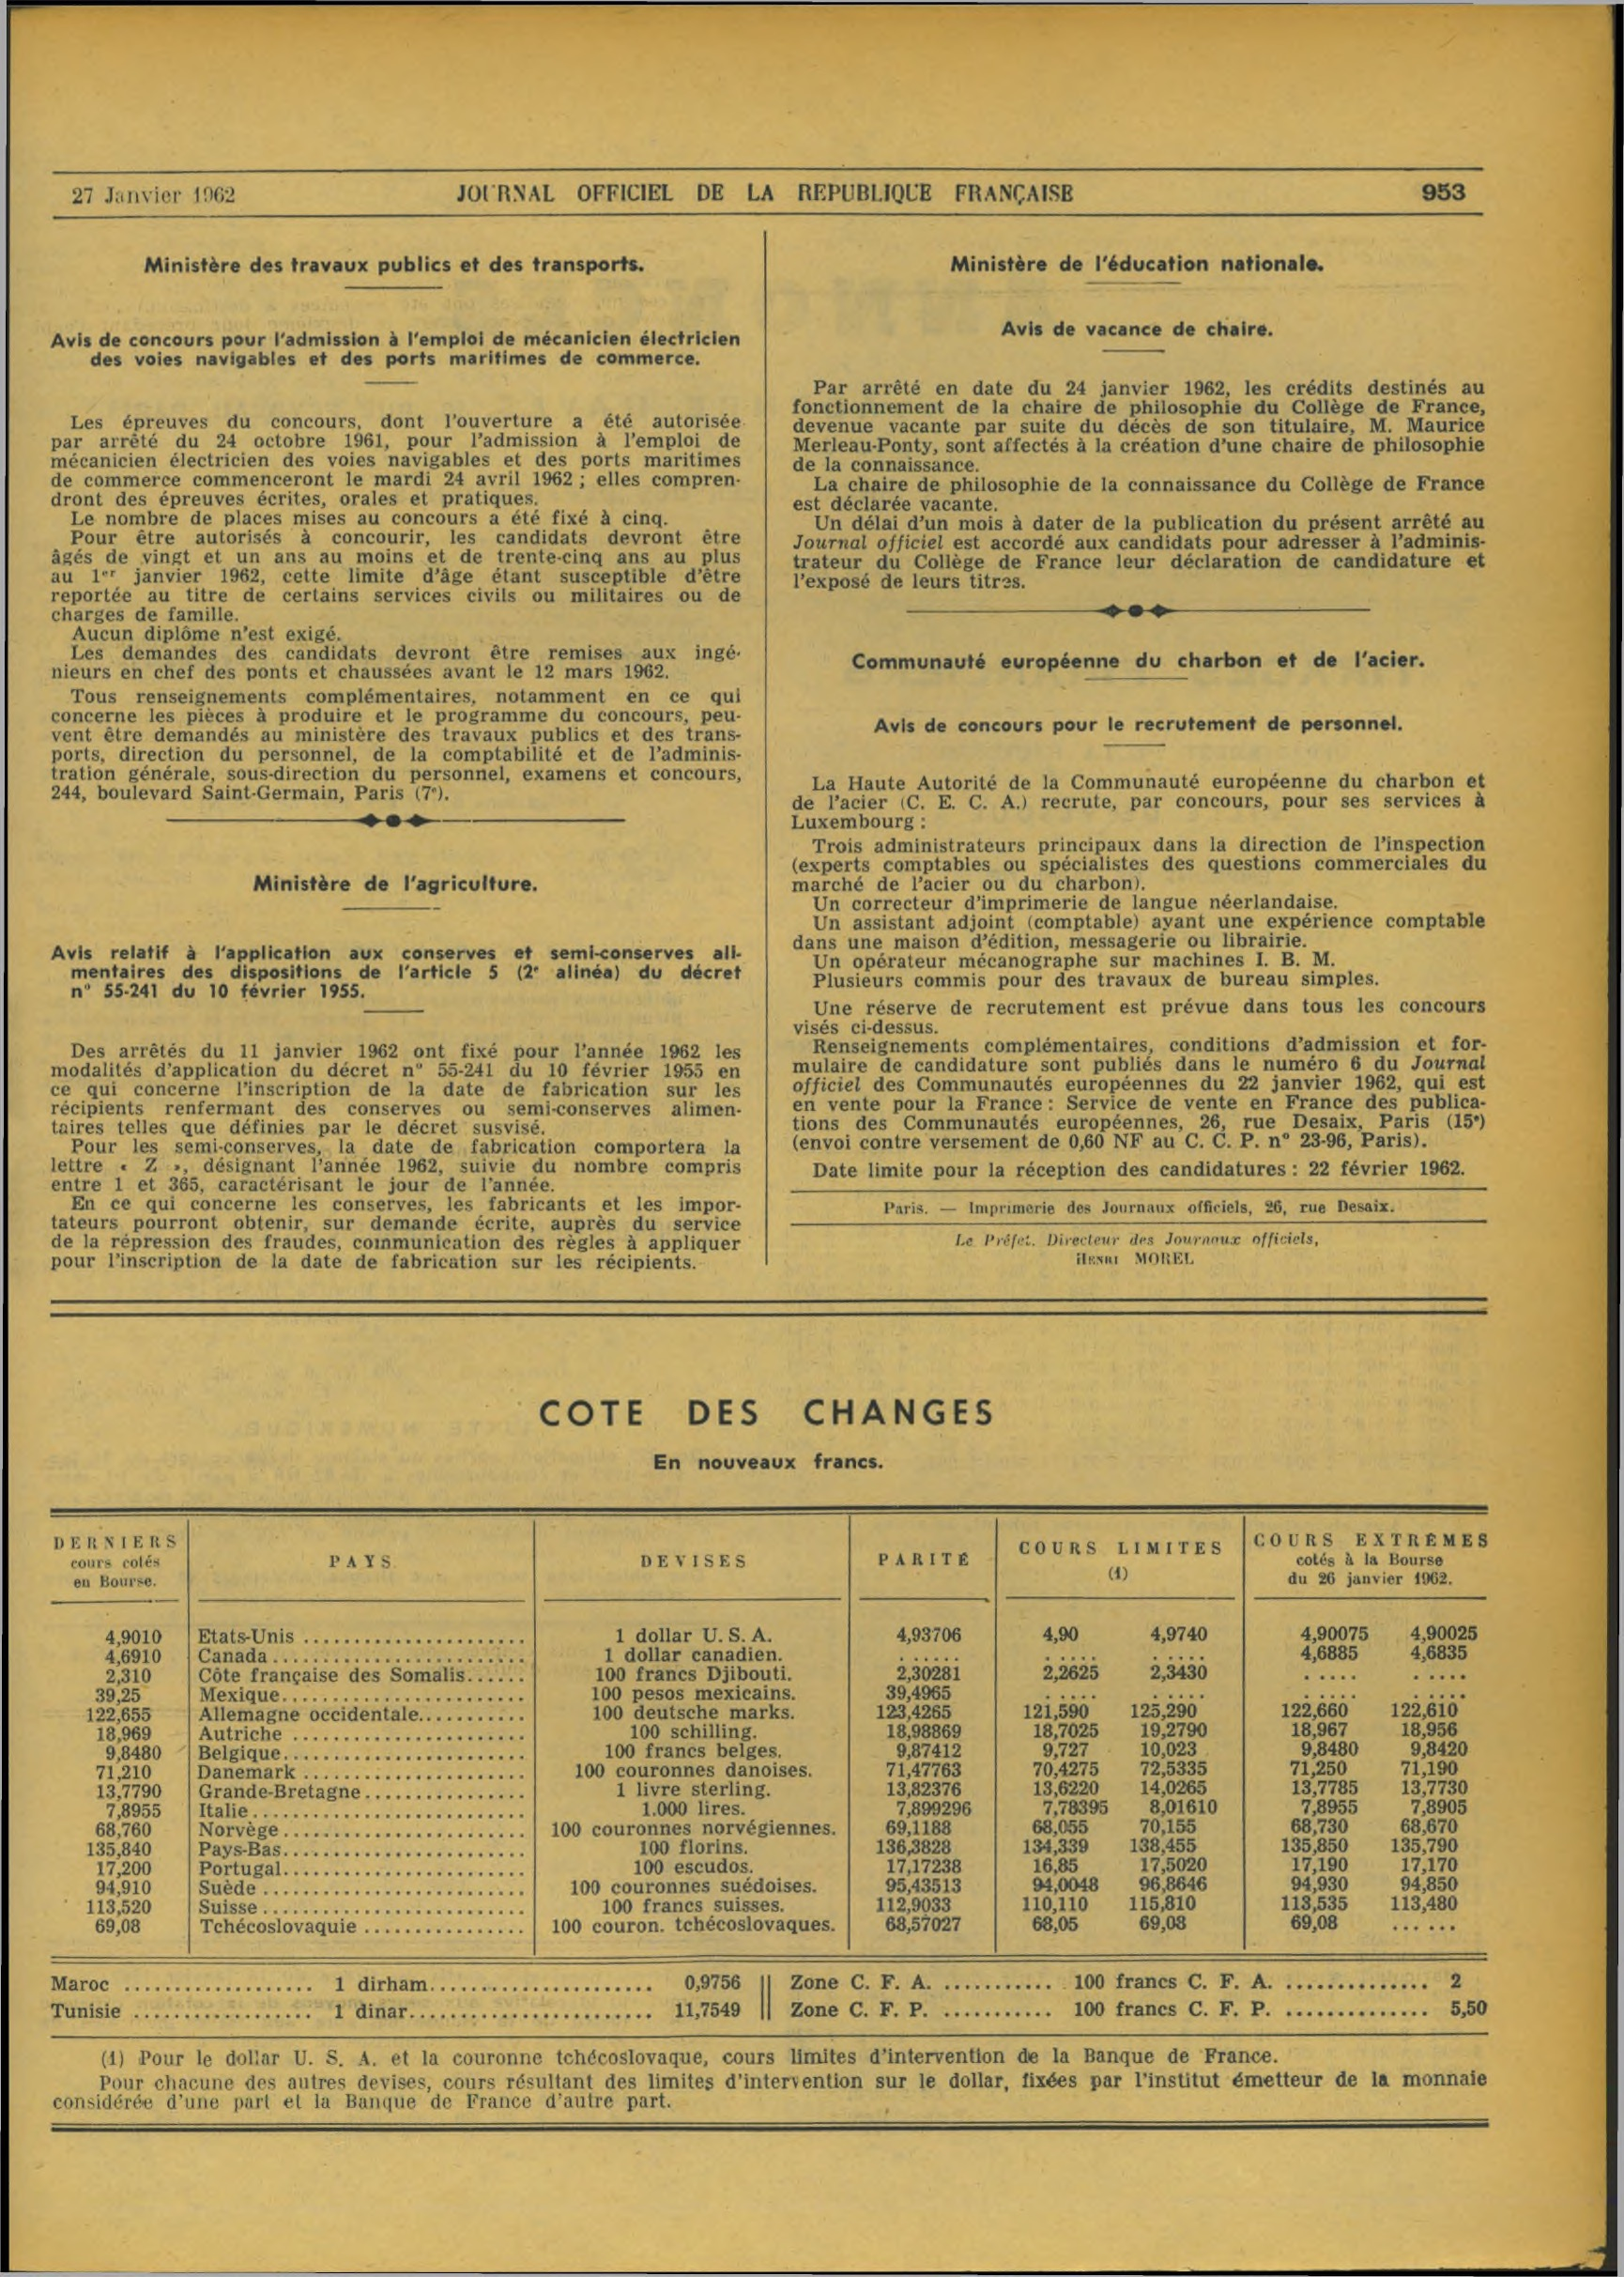MainZone-Date: (62, 178, 244, 211)
MainZone-Head: (38, 323, 746, 371), (523, 1381, 1008, 1439), (839, 644, 1434, 678), (130, 248, 651, 282), (853, 711, 1406, 740), (943, 248, 1334, 280), (246, 867, 542, 902), (643, 1442, 893, 1479), (994, 315, 1276, 347)
MainZone-Other: (874, 1198, 1400, 1221)
MainZone-P: (43, 685, 750, 807), (786, 1037, 1496, 1154), (786, 373, 1495, 473), (42, 406, 749, 506), (43, 1038, 748, 1137), (43, 528, 748, 622), (40, 1193, 749, 1280), (787, 514, 1494, 594), (40, 938, 749, 1008), (785, 769, 1493, 833), (785, 835, 1491, 893), (44, 1137, 747, 1194), (786, 473, 1495, 515), (785, 996, 1494, 1037), (43, 645, 745, 685), (785, 915, 1490, 951), (787, 1155, 1479, 1183), (42, 505, 738, 529), (41, 623, 743, 645), (785, 892, 1351, 914), (806, 950, 1342, 973), (806, 970, 1385, 991)
MainZone-Signature: (946, 1234, 1327, 1266)
MarginTextZone-Notes: (38, 2069, 1497, 2115), (96, 2044, 1282, 2069)
NumberingZone: (1415, 177, 1472, 208)
RunningTitleZone: (452, 173, 1082, 213)
TableZone: (38, 1494, 1509, 2039)
